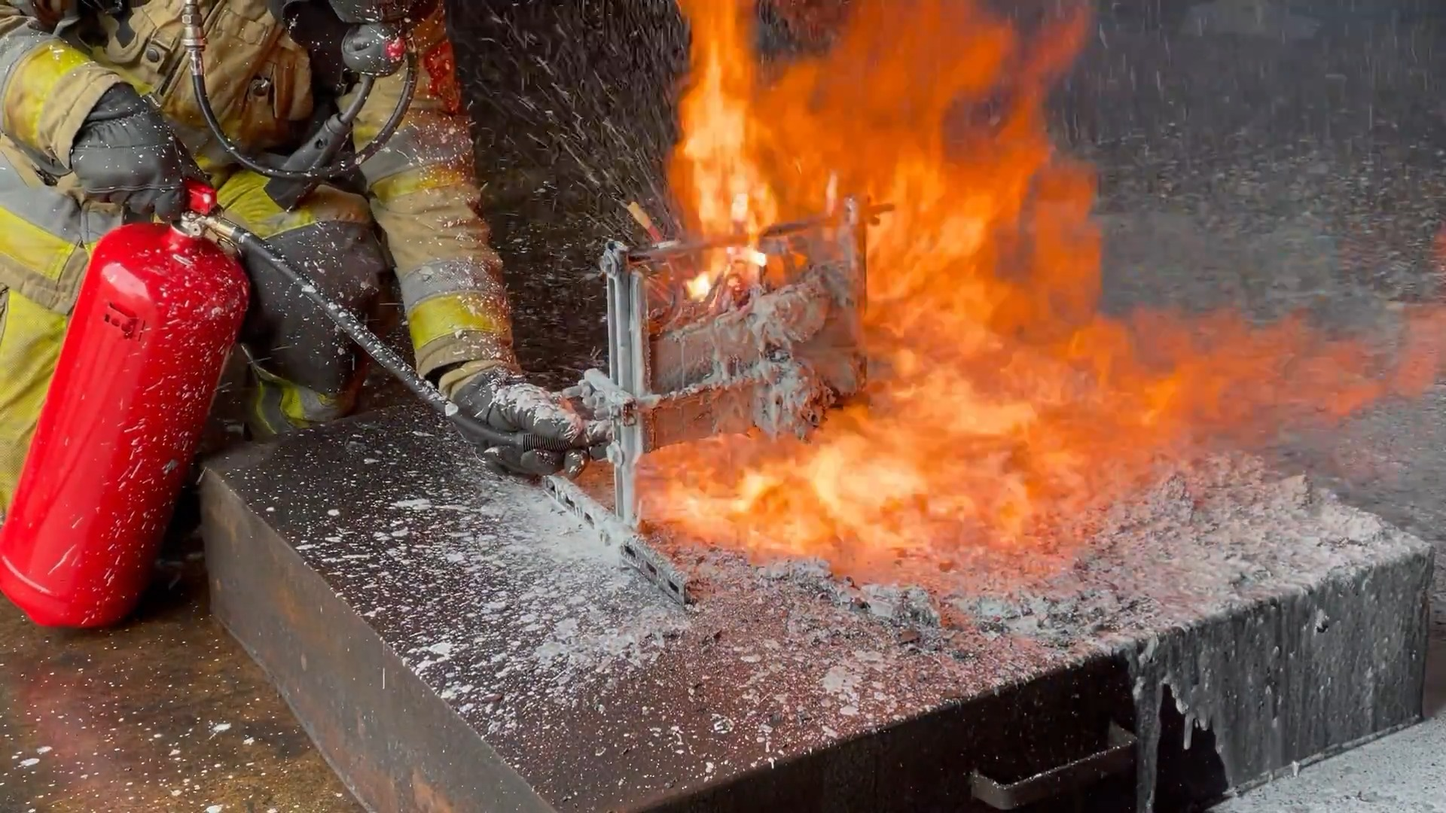fire: (630, 0, 1446, 599)
